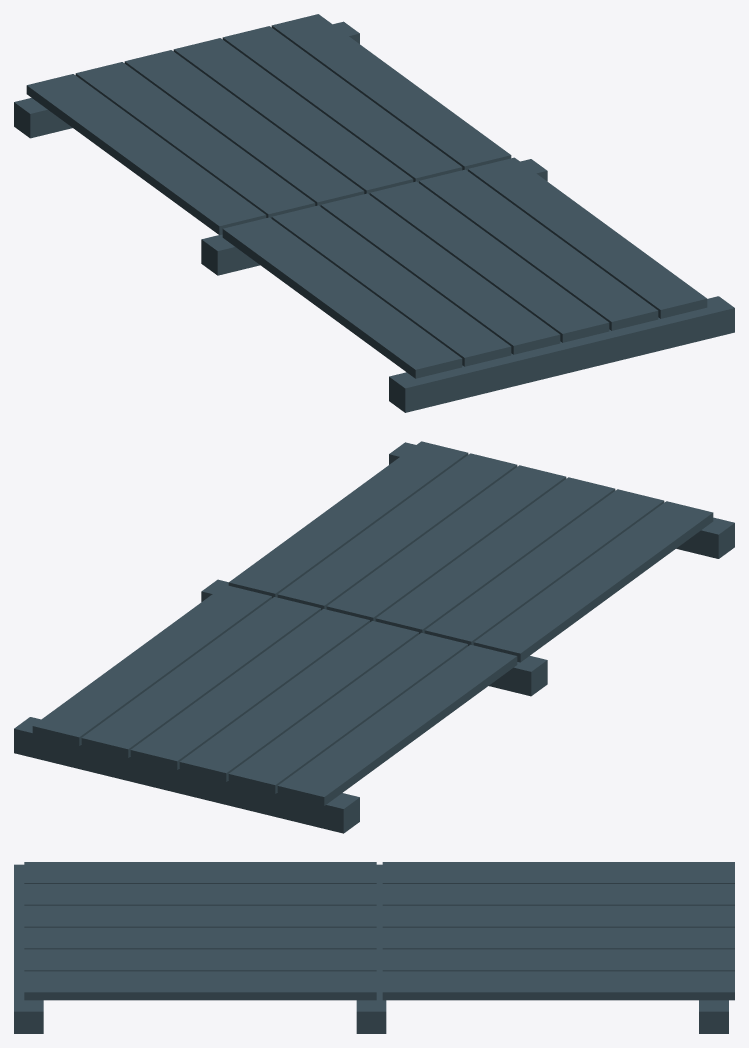
File: TrenchWoodFloor.fbx
3 views of the same model, one above another, from view 1: azimuth 30°, elevation 25°; view 2: azimuth 150°, elevation 25°; view 3: azimuth 270°, elevation 25° (orthographic). The views are drawn at different scales.
Visible parts, largest first — view 1: TrenchWoodFloor; view 2: TrenchWoodFloor; view 3: TrenchWoodFloor.
Boxes of the visible parts, x1,y1,x2,y2 form: TrenchWoodFloor: (14,14,734,412); TrenchWoodFloor: (14,441,734,833); TrenchWoodFloor: (14,862,734,1033).
Bounding box in the file's own units: 201 × 20.42 × 417.
